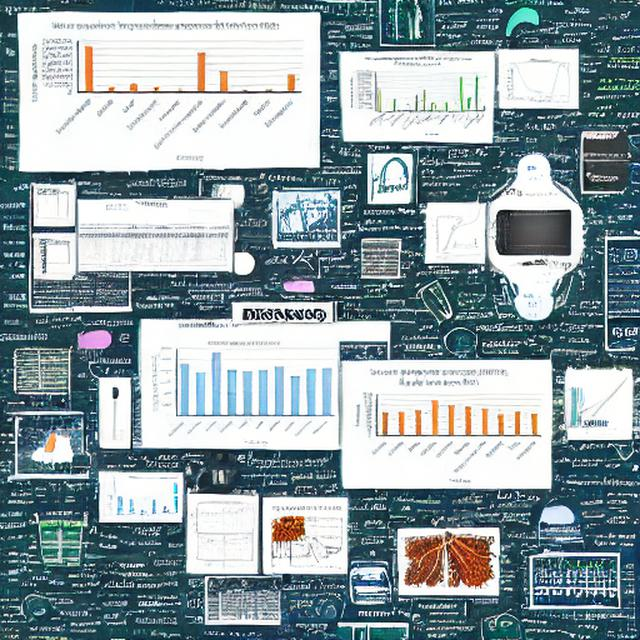Graph: (24, 15, 309, 166), (349, 363, 546, 486), (151, 339, 337, 447), (347, 54, 490, 139), (505, 53, 576, 106), (106, 476, 181, 520), (501, 213, 571, 252), (189, 501, 254, 540)
